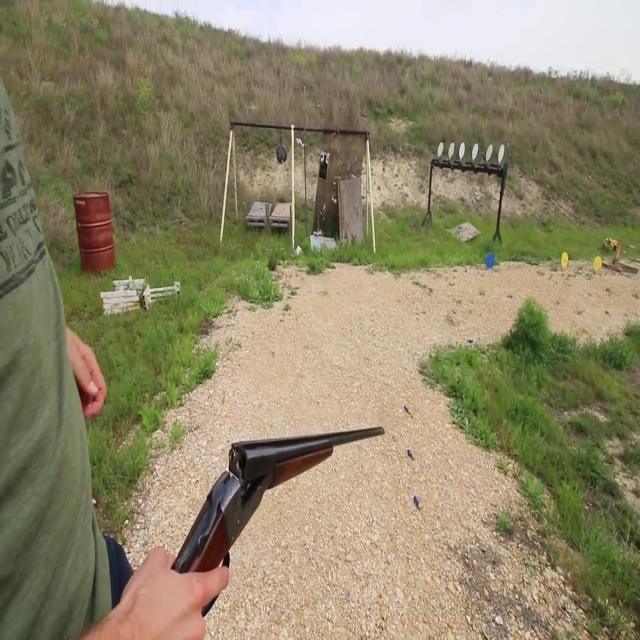Weapon: (146, 383, 400, 614)
